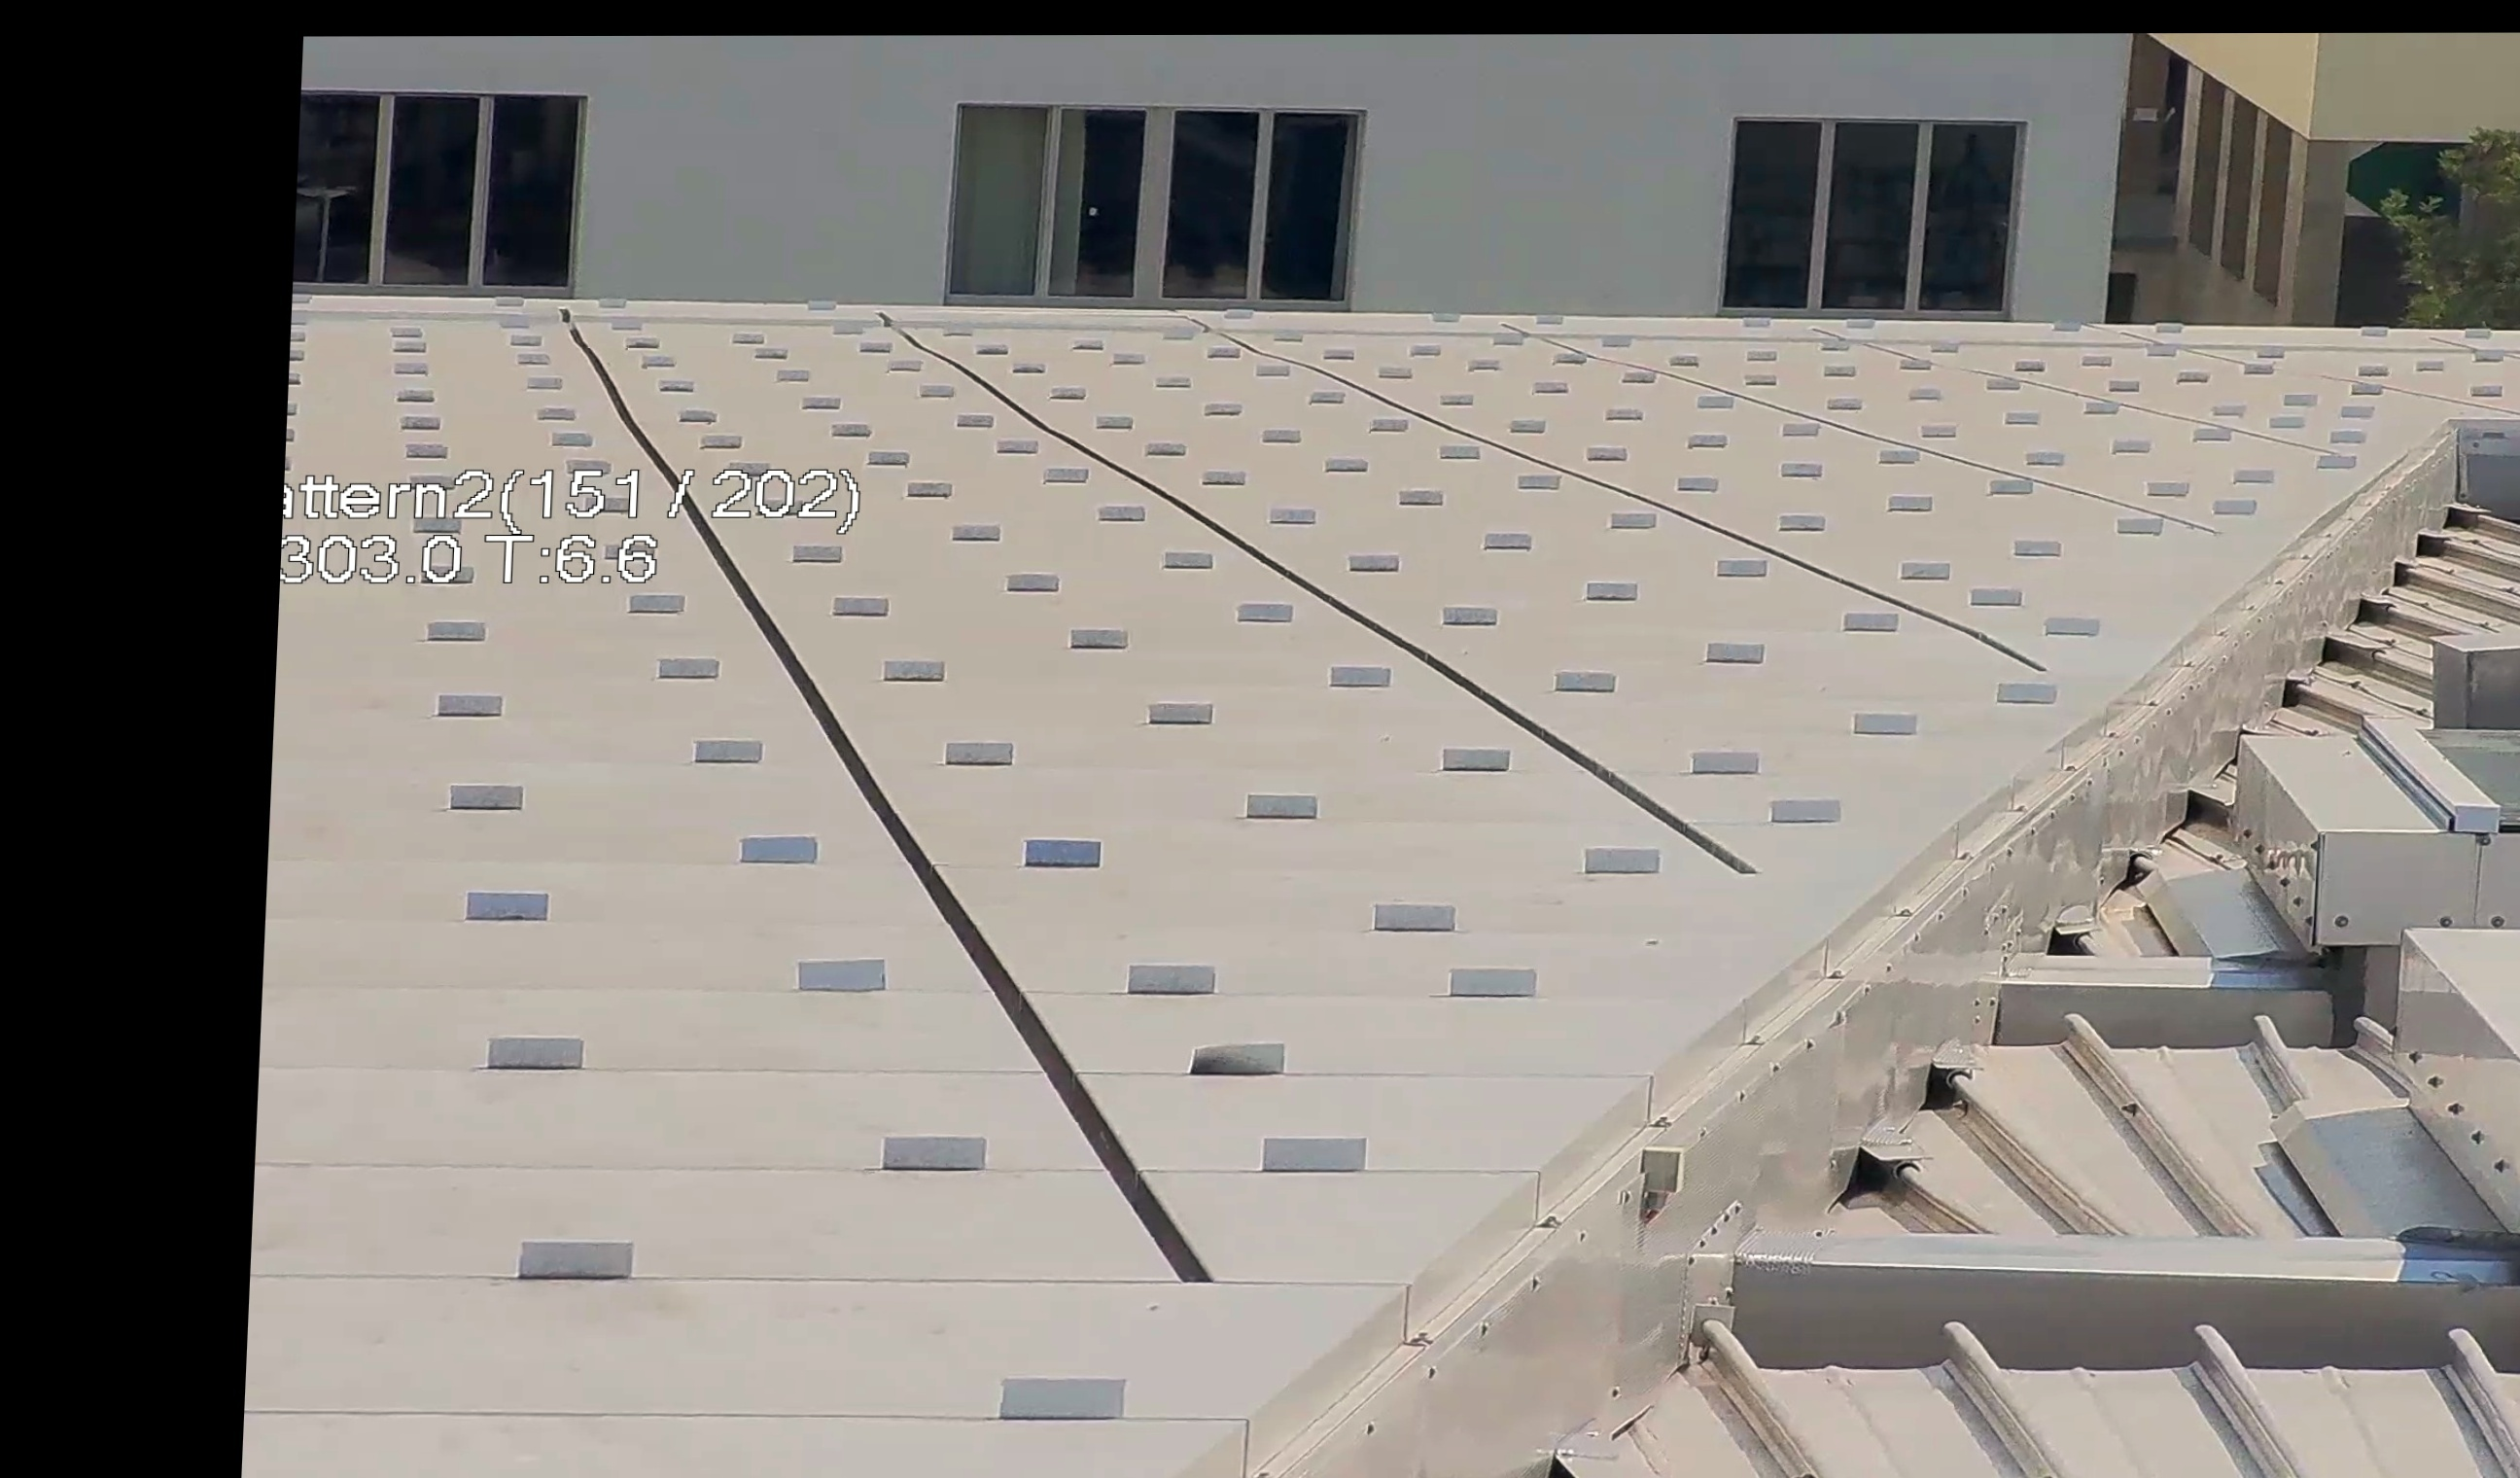Other: (1523, 1445, 1657, 1478)
